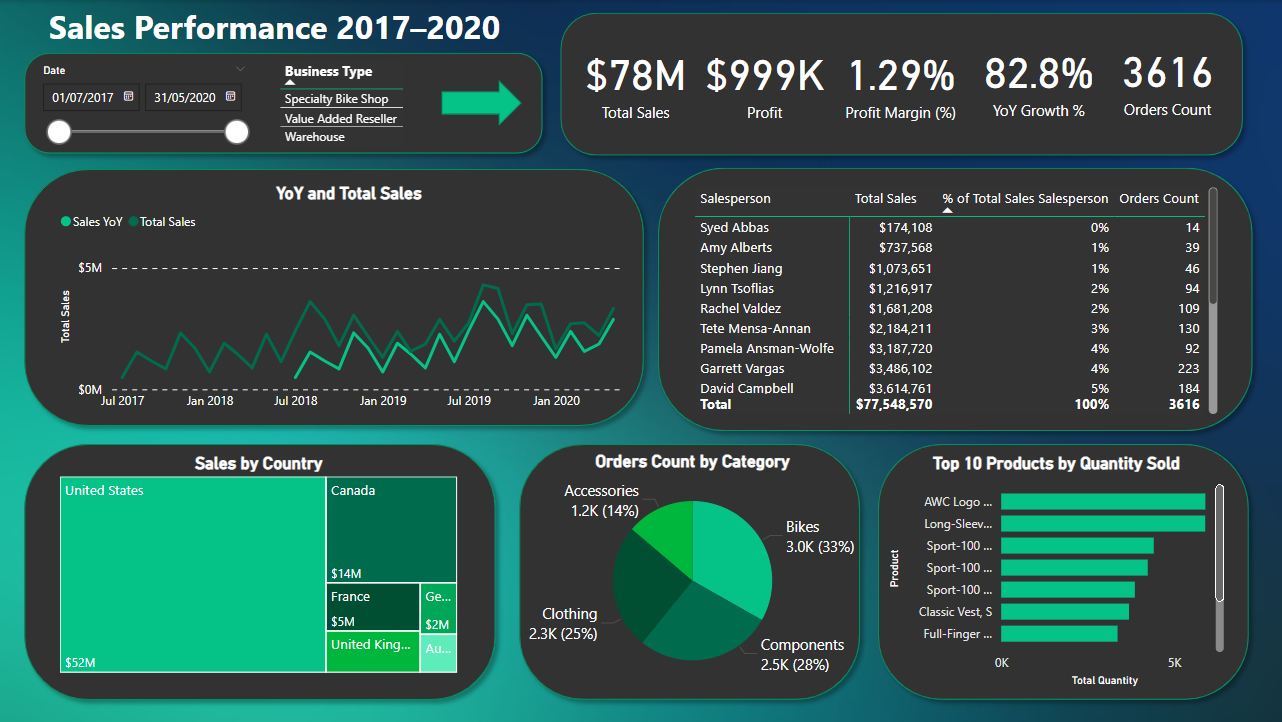

This screenshot's page, from the dashboard's own definition file:
{"tool":"powerbi","page":{"name":"Main Dashboard","canvas":[1280,720],"ordinal":0},"visuals":[{"type":"shape","box":[865.6,432.9,386.9,272.4],"z":0,"group":"g1"},{"type":"shape","box":[508.8,432.9,357,272.4],"z":1000,"group":"g1"},{"type":"shape","box":[16.5,433.4,487,272.7],"z":2000,"group":"g1"},{"type":"shape","box":[16.7,43.6,533.7,118.2],"z":3000,"group":"g1"},{"type":"shape","box":[549.9,4,697,160],"z":4000,"group":"g1"},{"type":"shape","box":[646.7,158.3,609.5,279.9],"z":5000,"group":"g1"},{"type":"shape","box":[16.2,159.2,634.4,273.7],"z":6000,"group":"g1"},{"type":"group","id":"g1","title":"Group 1","box":[16.2,4,1240,702.1],"z":6500},{"type":"textbox","box":[16.2,0,516.2,54.7],"z":7000},{"type":"card","fields":{"Values":["Sales.Total Sales"]},"box":[571.6,29.9,125.4,101.2],"z":8000},{"type":"lineChart","title":"YoY and Total Sales ","fields":{"Y":["Sales.Sales YoY","Sales.Total Sales"],"Category":["Date.Date.Variation.Date Hierarchy.Year","Date.Date.Variation.Date Hierarchy.Quarter","Date.Date.Variation.Date Hierarchy.Month","Date.Date.Variation.Date Hierarchy.Day"]},"box":[55.7,181.8,584.6,236],"z":9000},{"type":"card","fields":{"Values":["Sales.Profit"]},"box":[697,29.9,131.1,101.2],"z":10000},{"type":"card","fields":{"Values":["Sales.Total Distinct Orders"]},"box":[1108.4,24.9,109.5,105.7],"z":11000},{"type":"card","fields":{"Values":["Sales.YoY Growth %"]},"box":[974,27.4,121.9,102],"z":12000},{"type":"pivotTable","fields":{"Rows":["Salesperson.Salesperson"],"Values":["Sales.Total Sales","Sales.Sales %","Sales.Total Distinct Orders"]},"box":[687.9,181.6,529.9,235.1],"z":13000},{"type":"treemap","title":"Sales by Country","fields":{"Group":["Region.Country"],"Values":["Sales.Total Sales"]},"box":[55.4,450.1,404.9,224],"z":14000},{"type":"pieChart","title":"Orders Count by Category","fields":{"Category":["Products.Category"],"Y":["Sales.Total Distinct Orders"]},"box":[508.8,449.1,363.2,238.8],"z":15000},{"type":"clusteredBarChart","title":"Top 10 Products by Quantity Sold","fields":{"Y":["Sales.Total Quantity"],"Category":["Products.Product"]},"box":[880.7,450.3,343.3,237.6],"z":16000},{"type":"slicer","fields":{"Values":["Date.Date"]},"box":[31.1,58.5,226.4,94.5],"z":17000},{"type":"card","fields":{"Values":["Sales.Profit Margin (%)"]},"box":[835.3,29.9,125.4,101.2],"z":18000},{"type":"tableEx","fields":{"Values":["Reseller.Business Type"]},"box":[273.7,54.2,149.7,98.4],"z":19000},{"type":"shape","box":[440.5,79.8,79.8,45.6],"z":19001,"group":"g1"}]}

Visuals, with their boxes in screenshot pixels (x1, y1, x2, y2), scaled from the page's 1280x720 canvas onto the 1282x722 screenshot:
shape: box(867, 434, 1254, 707)
shape: box(510, 434, 867, 707)
shape: box(17, 435, 504, 708)
shape: box(17, 44, 551, 162)
shape: box(551, 4, 1249, 164)
shape: box(648, 159, 1258, 439)
shape: box(16, 160, 652, 434)
"Group 1" group: box(16, 4, 1258, 708)
textbox: box(16, 0, 533, 55)
card - Sales.Total Sales: box(572, 30, 698, 131)
"YoY and Total Sales " lineChart: box(56, 182, 641, 419)
card - Sales.Profit: box(698, 30, 829, 131)
card - Sales.Total Distinct Orders: box(1110, 25, 1220, 131)
card - Sales.YoY Growth %: box(976, 27, 1098, 130)
pivotTable - Salesperson.Salesperson x Sales.Total Sales: box(689, 182, 1220, 418)
"Sales by Country" treemap: box(55, 451, 461, 676)
"Orders Count by Category" pieChart: box(510, 450, 873, 690)
"Top 10 Products by Quantity Sold" clusteredBarChart: box(882, 452, 1226, 690)
slicer - Date.Date: box(31, 59, 258, 153)
card - Sales.Profit Margin (%): box(837, 30, 962, 131)
tableEx - Reseller.Business Type: box(274, 54, 424, 153)
shape: box(441, 80, 521, 126)
